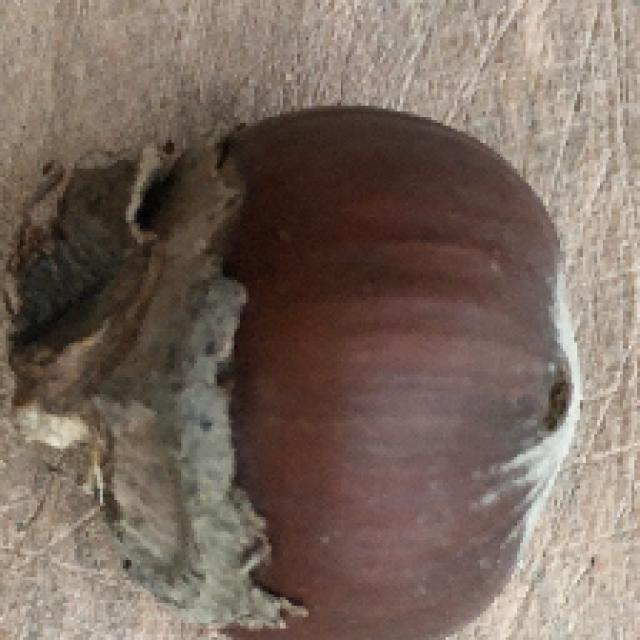damagedHazelnut: (0, 97, 591, 640)
